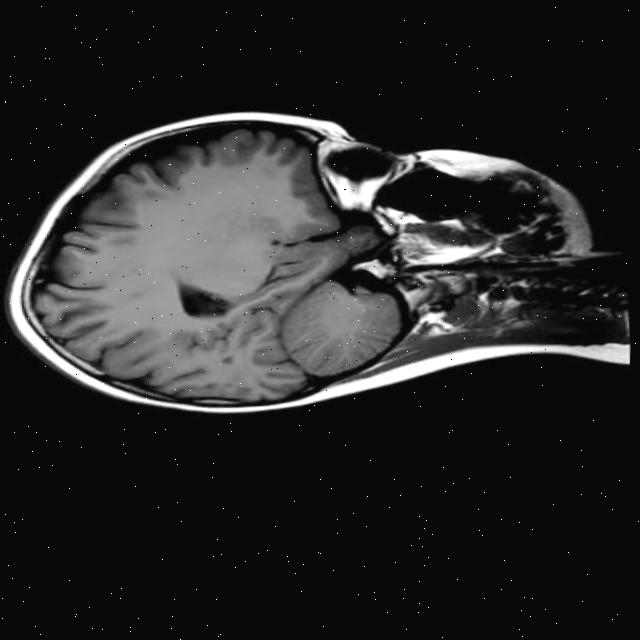NoTumor: (0, 87, 415, 437)
